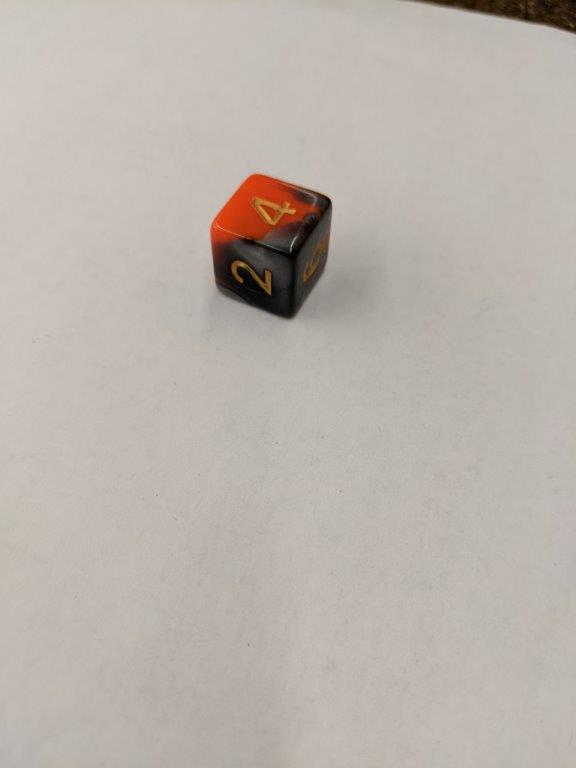d6-4: (209, 172, 337, 320)
